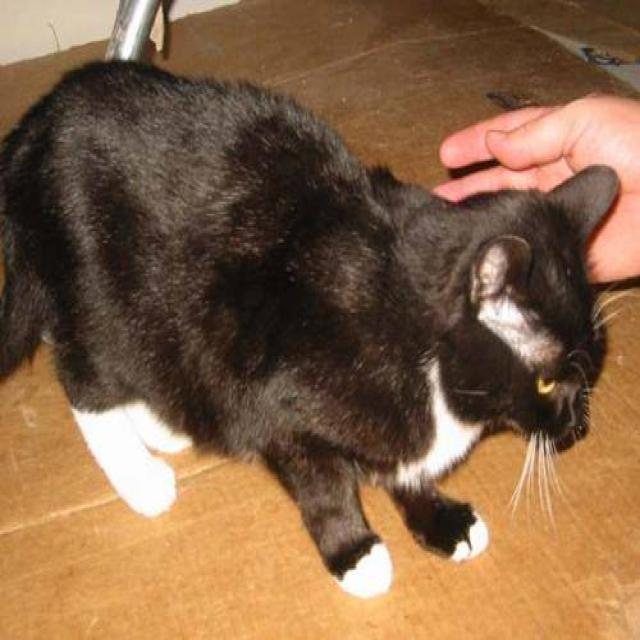cat: (0, 56, 623, 597)
